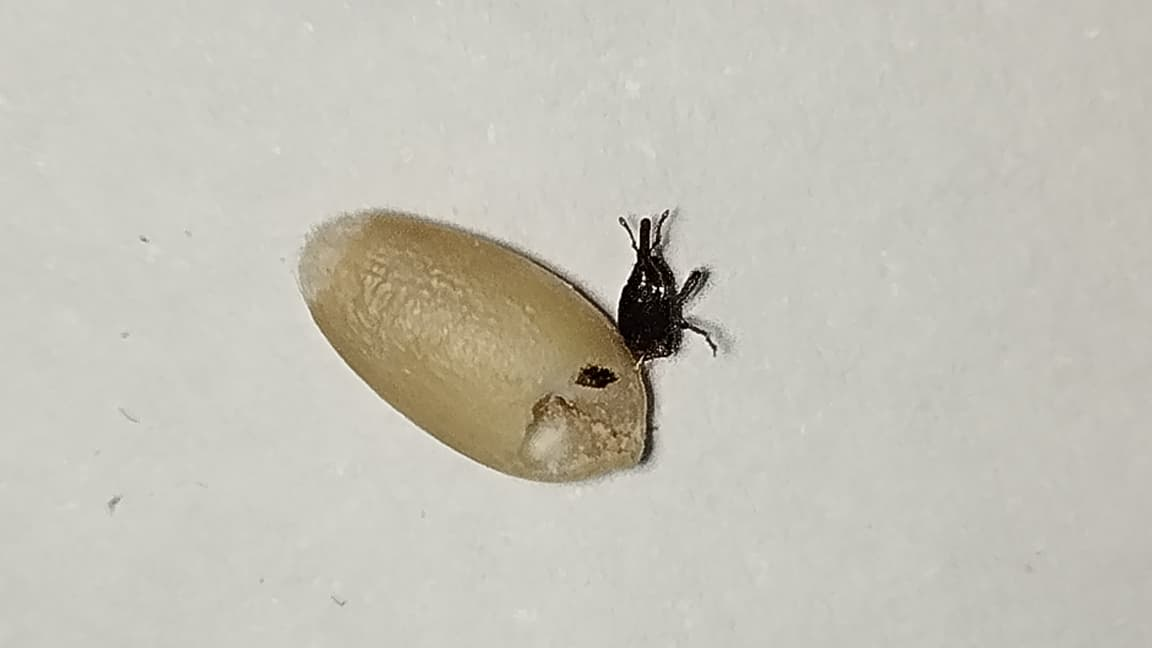damage: (290, 183, 743, 496)
insectdamage: (615, 209, 730, 379), (517, 392, 648, 486)
